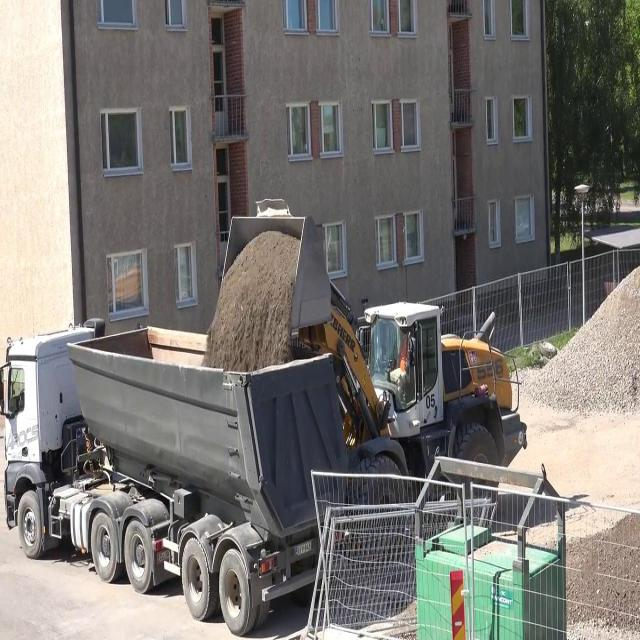buldozerpayloadergrader: (221, 196, 529, 520)
dump_truck: (0, 316, 350, 636)
